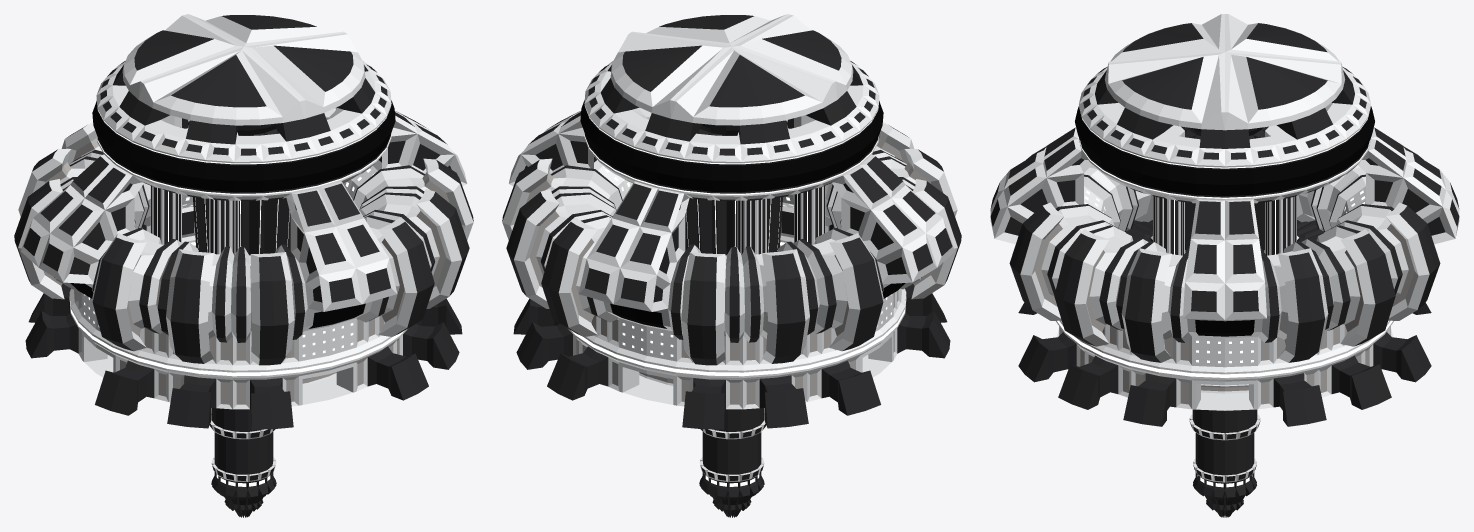
Rendered from mining-station.glb.
3 views of the same model, side by side, from view 1: azimuth 30°, elevation 25°; view 2: azimuth 150°, elevation 25°; view 3: azimuth 270°, elevation 25° (orthographic).
Parts seen in each view (by area): view 1: MiningStation_Body, MiningStation_Roof, MiningStation_Head, MiningStation_DrillController, MiningStation_Elevator, MiningStation_DrillPart3, MiningStation_DrillHead, MiningStation_DrillPart2; view 2: MiningStation_Body, MiningStation_Roof, MiningStation_Head, MiningStation_DrillController, MiningStation_Elevator, MiningStation_DrillPart3, MiningStation_DrillHead, MiningStation_DrillPart2; view 3: MiningStation_Body, MiningStation_Head, MiningStation_Roof, MiningStation_Elevator, MiningStation_DrillPart3, MiningStation_DrillPart2, MiningStation_DrillHead, MiningStation_DrillController.
Part boxes in pixels (left/top/right/bottom): MiningStation_Body: left=14, top=110, right=473, bottom=429; MiningStation_Roof: left=113, top=14, right=375, bottom=144; MiningStation_Head: left=70, top=61, right=417, bottom=232; MiningStation_DrillController: left=188, top=121, right=290, bottom=255; MiningStation_Elevator: left=150, top=107, right=336, bottom=254; MiningStation_DrillPart3: left=211, top=431, right=276, bottom=481; MiningStation_DrillHead: left=211, top=472, right=276, bottom=517; MiningStation_DrillPart2: left=210, top=408, right=275, bottom=439; MiningStation_Body: left=502, top=110, right=961, bottom=429; MiningStation_Roof: left=600, top=14, right=862, bottom=144; MiningStation_Head: left=558, top=61, right=905, bottom=232; MiningStation_DrillController: left=685, top=121, right=787, bottom=255; MiningStation_Elevator: left=639, top=107, right=825, bottom=254; MiningStation_DrillPart3: left=699, top=431, right=764, bottom=481; MiningStation_DrillHead: left=699, top=472, right=764, bottom=517; MiningStation_DrillPart2: left=700, top=408, right=765, bottom=439; MiningStation_Body: left=990, top=146, right=1459, bottom=426; MiningStation_Head: left=1043, top=67, right=1406, bottom=240; MiningStation_Roof: left=1095, top=14, right=1354, bottom=148; MiningStation_Elevator: left=1150, top=125, right=1299, bottom=255; MiningStation_DrillPart3: left=1193, top=433, right=1256, bottom=482; MiningStation_DrillPart2: left=1189, top=409, right=1260, bottom=440; MiningStation_DrillHead: left=1193, top=472, right=1256, bottom=517; MiningStation_DrillController: left=1181, top=126, right=1268, bottom=252.
Size of the model in its own units: 5851 by 6441 by 5851.
Materials: 1 (1 with a texture image).
